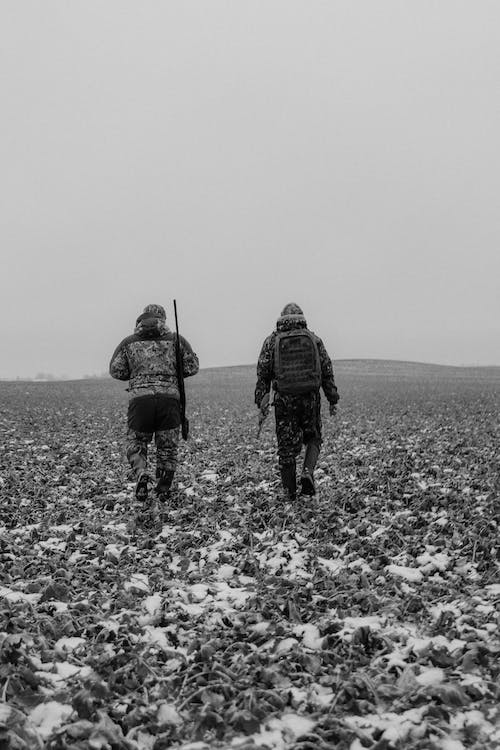gun: (170, 295, 191, 442), (253, 377, 280, 442)
